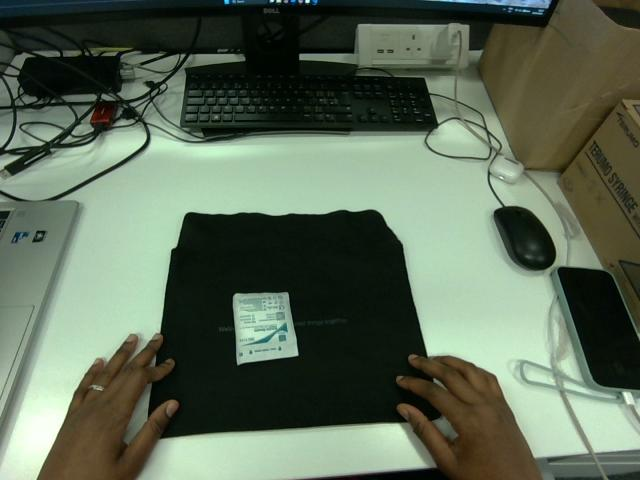gauze: (233, 292, 298, 364)
